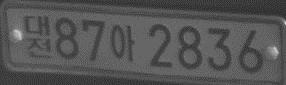2: (147, 22, 173, 68)
3: (207, 27, 232, 70)
6: (238, 29, 263, 73)
7: (81, 18, 105, 61)
8: (176, 24, 204, 70), (54, 16, 79, 58)
대전_V: (24, 15, 51, 59)
아: (109, 24, 136, 62)
